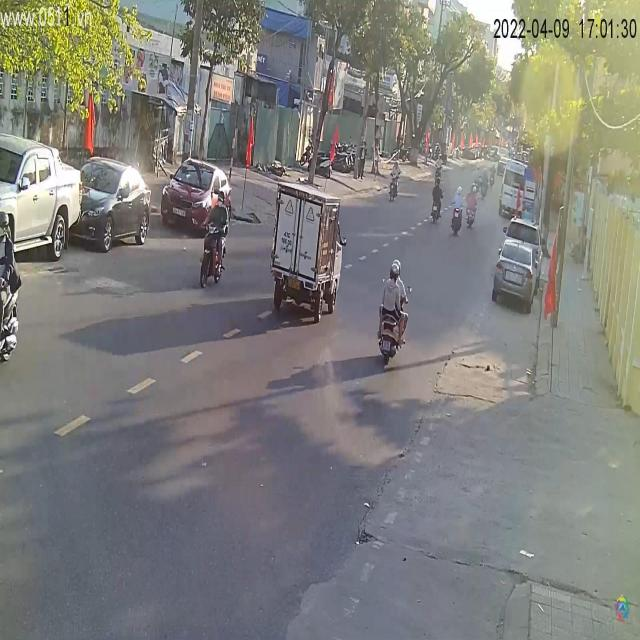car: (1, 132, 83, 264), (76, 158, 154, 254), (161, 158, 231, 230), (492, 237, 543, 314)
motorcycle: (376, 283, 412, 372), (200, 215, 230, 288)
truck: (267, 178, 347, 324)
